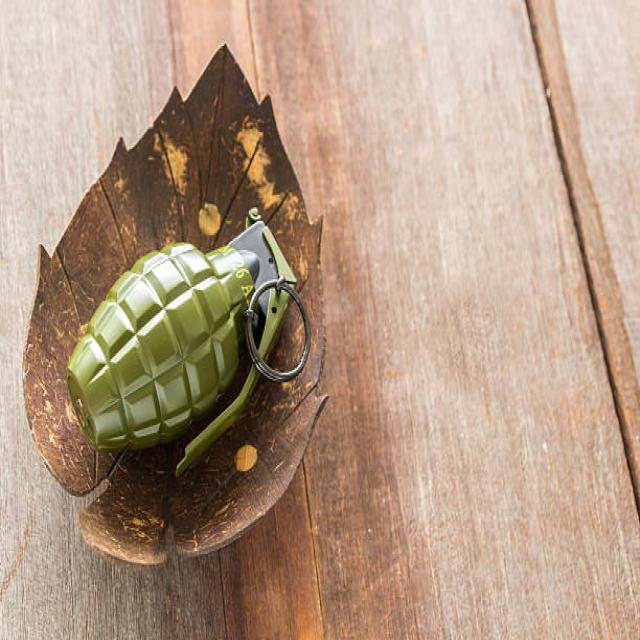grenade: (62, 210, 317, 482)
